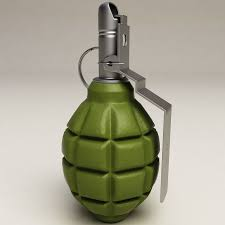e1: (64, 2, 174, 222)
